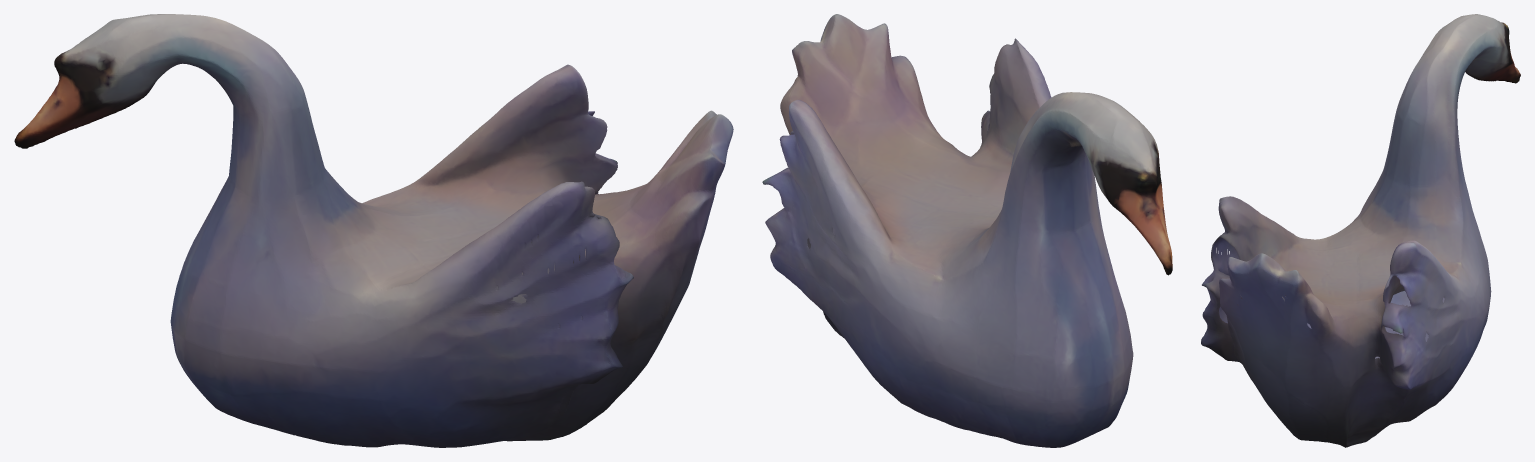
The model's file is obj11_ours.glb.
3 views of the same model, side by side, from view 1: azimuth 30°, elevation 25°; view 2: azimuth 150°, elevation 25°; view 3: azimuth 270°, elevation 25° (orthographic). The views are drawn at different scales.
Visible parts, largest first — view 1: n1; view 2: n1; view 3: n1.
Part boxes in pixels (x1,y1,x2,y2): n1: (14,14,733,447); n1: (762,14,1172,447); n1: (1201,14,1520,447).
Bounding box in the file's own units: 0.8944 × 0.6414 × 0.5905.
